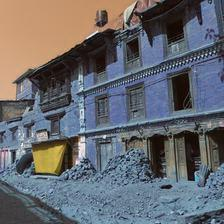Destroyed_Building: (0, 0, 224, 185)
